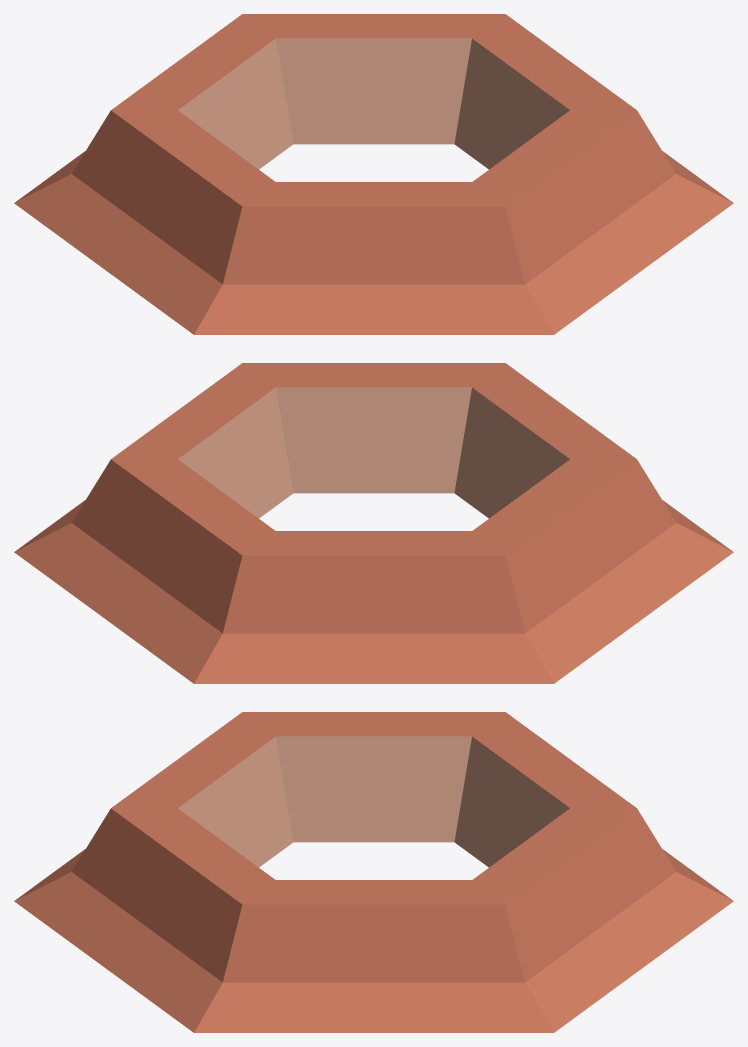
The model's file is crater.glb.
3 renders of one model, top to bottom at view 1: azimuth 30°, elevation 25°; view 2: azimuth 150°, elevation 25°; view 3: azimuth 270°, elevation 25°, orthographic.
Visible parts, largest first — view 1: crater; view 2: crater; view 3: crater.
Boxes of the visible parts, x1,y1,x2,y2 form: crater: (14, 14, 733, 334); crater: (14, 363, 733, 683); crater: (14, 712, 733, 1032).
Size of the model in its own units: 0.9295 by 0.1529 by 1.07.
